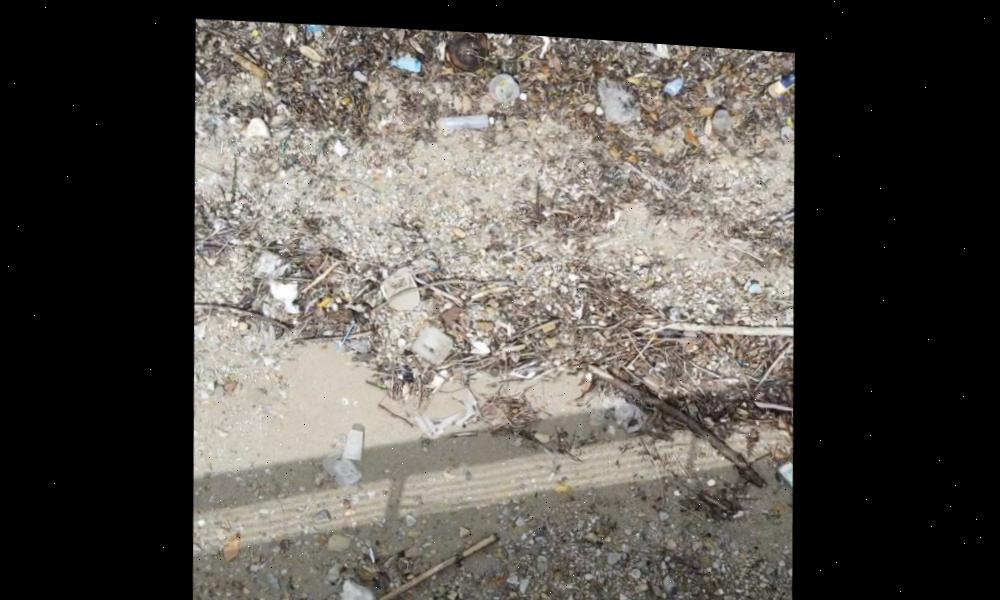carton: (778, 450, 795, 475)
plastic bottle: (435, 105, 496, 127), (764, 52, 796, 89)
